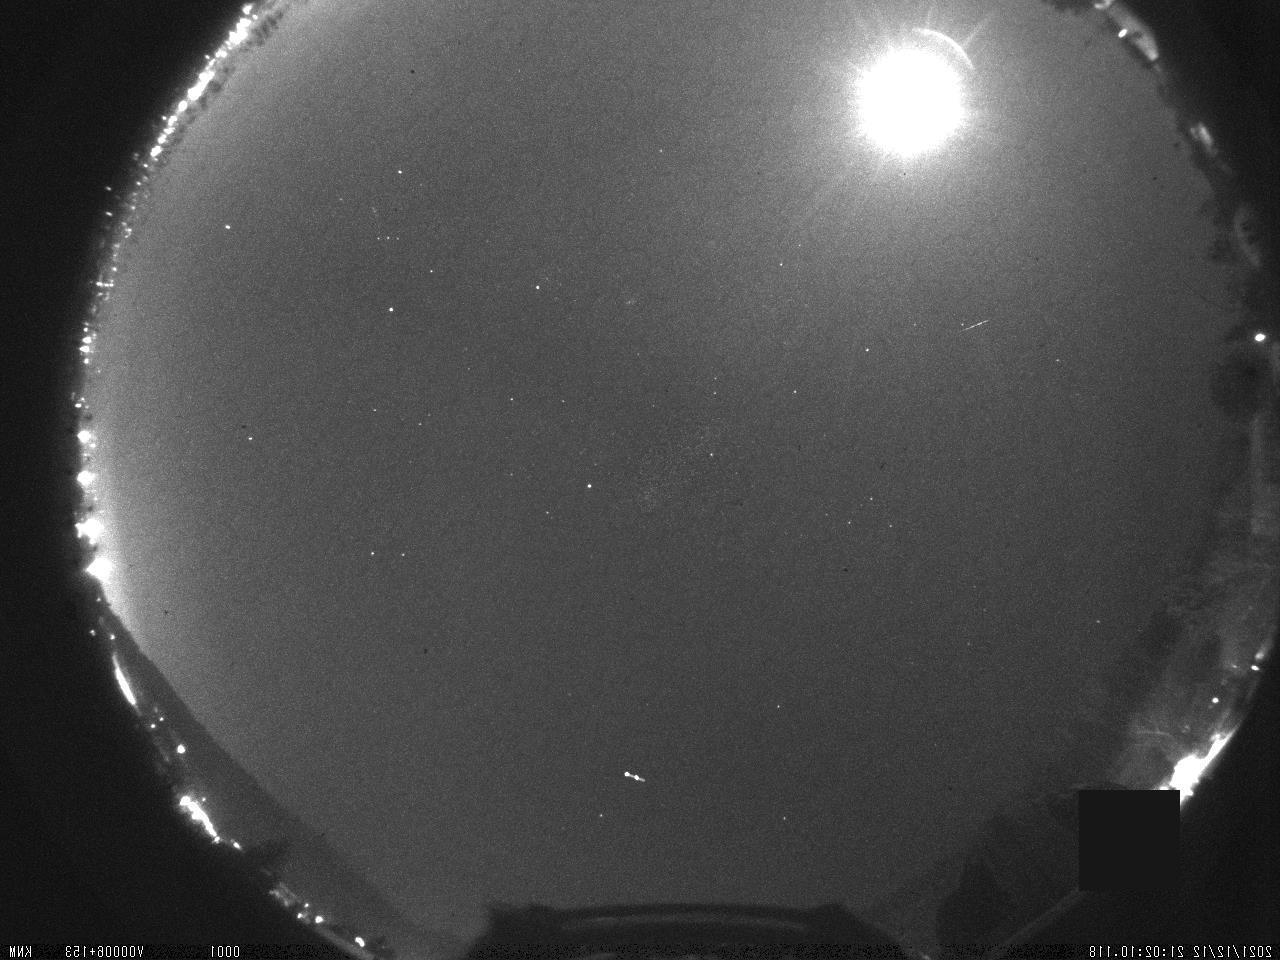meteor: (941, 309, 1016, 352)
